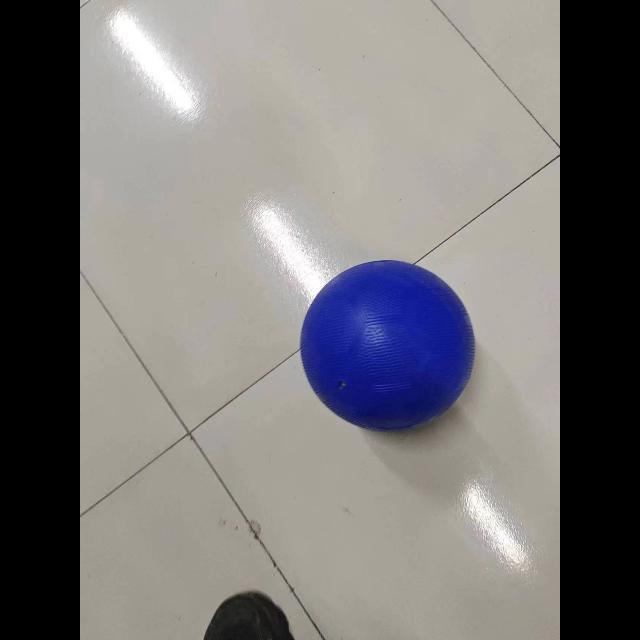B: (297, 256, 483, 436)
